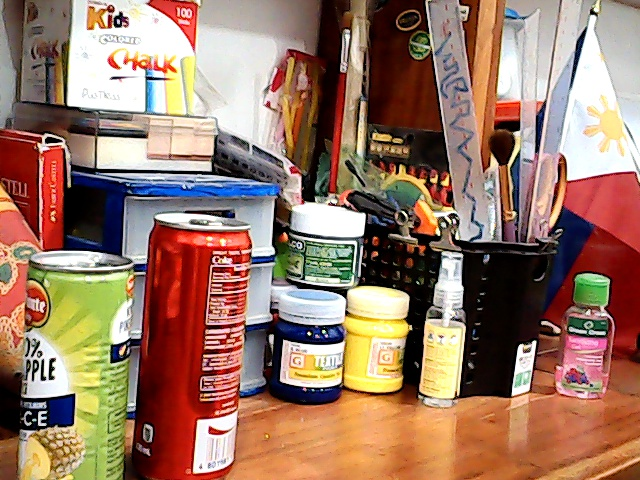Cola: (127, 202, 259, 480)
Pine Juice: (16, 238, 136, 480)
